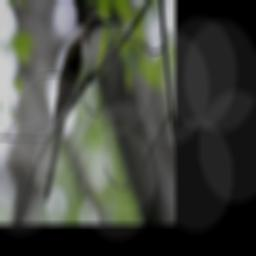Cuckoo: (41, 10, 113, 205)
